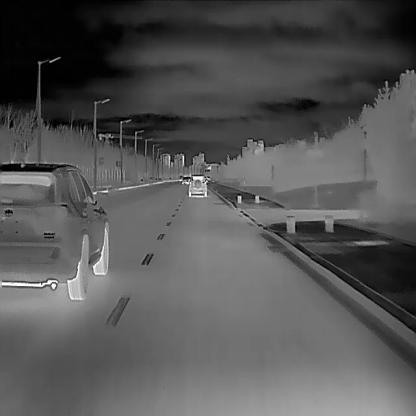car: (0, 162, 108, 300), (187, 173, 208, 196), (182, 176, 190, 184)
